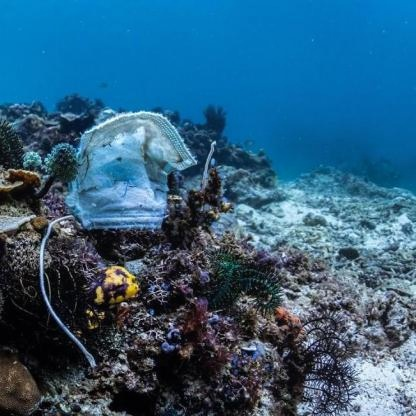Mask: (49, 93, 220, 264)
